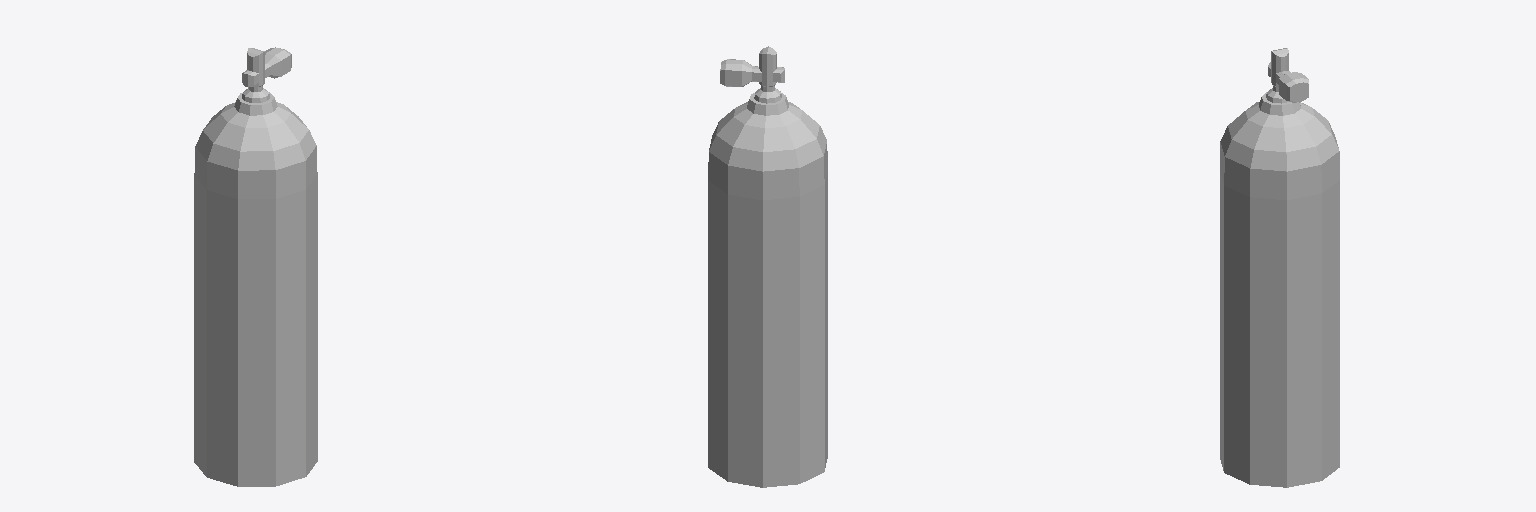
File: Tank5.obj
3 renders of one model, left to right at view 1: azimuth 30°, elevation 25°; view 2: azimuth 150°, elevation 25°; view 3: azimuth 270°, elevation 25°, orthographic.
Parts seen in each view (by area): view 1: Tank5; view 2: Tank5; view 3: Tank5.
Part boxes in pixels (x1,y1,x2,y2): Tank5: (194,47,317,486); Tank5: (708,46,827,487); Tank5: (1220,48,1339,487).
Bounding box in the file's own units: 41.26 × 153 × 40.79.